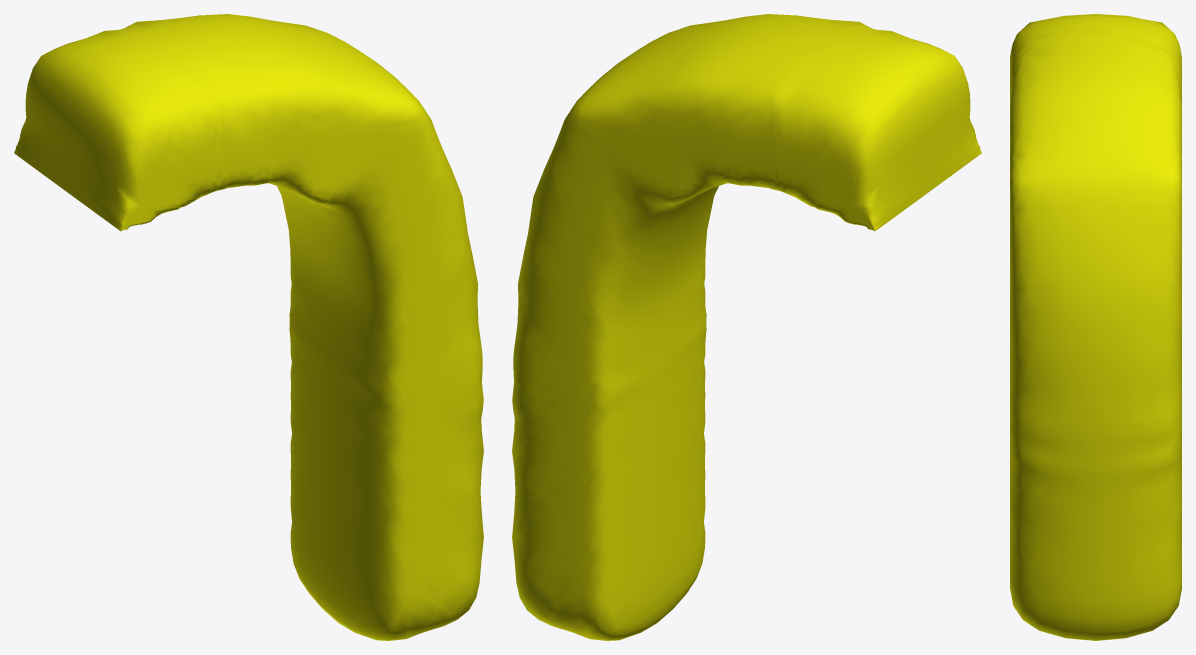
The picture shows the model from 3 angles, left to right: view 1: azimuth 30°, elevation 25°; view 2: azimuth 150°, elevation 25°; view 3: azimuth 270°, elevation 25°; orthographic projection. The views are drawn at different scales.
Parts seen in each view (by area): view 1: num_6; view 2: num_6; view 3: num_6.
Part boxes in pixels (x1,y1,x2,y2): num_6: (14,14,483,640); num_6: (512,14,981,640); num_6: (1010,14,1181,640).
Bounding box in the file's own units: 4.22 × 6.48 × 2.
